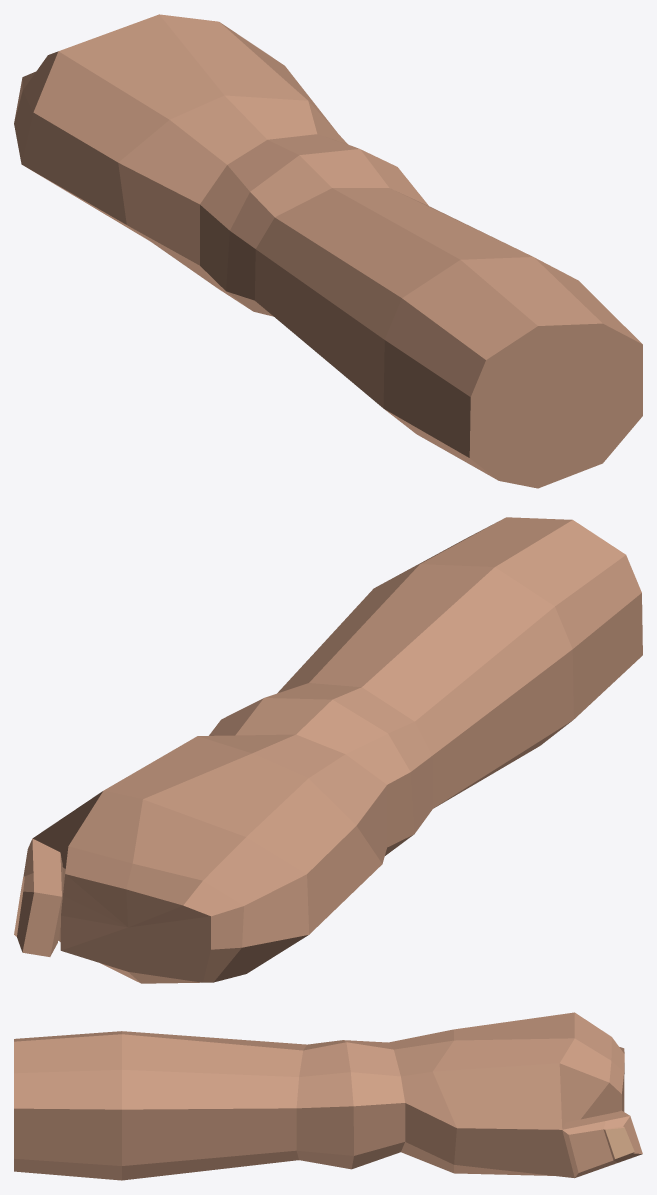
Rendered from LongRightHand.fbx.
3 renders of one model, top to bottom at view 1: azimuth 30°, elevation 25°; view 2: azimuth 150°, elevation 25°; view 3: azimuth 270°, elevation 25°, orthographic. The views are drawn at different scales.
Parts seen in each view (by area): view 1: Circle.066; view 2: Circle.066; view 3: Circle.066.
Boxes of the visible parts, bbox=[...] form: Circle.066: bbox=[14, 14, 642, 488]; Circle.066: bbox=[14, 517, 642, 983]; Circle.066: bbox=[14, 1012, 642, 1180].
Size of the model in its own units: 231 by 153 by 664.
